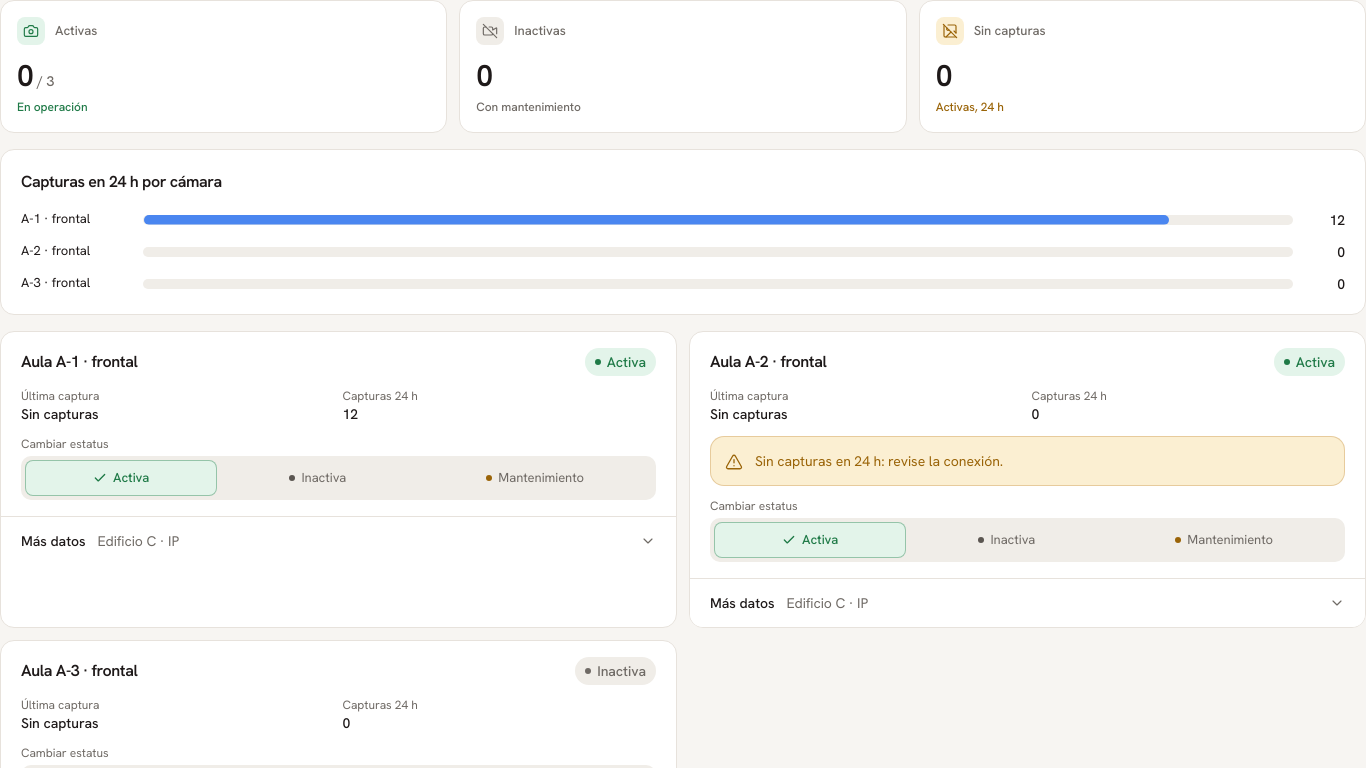
Test: CamarasEstado › elegir el estatus que ya tiene no abre nada y cancelar no cambia nada
Click the radio button labelled "Activa" below "Aula A-1 · frontal" at (121, 478), box top-left (25, 460), bottom-right (217, 496)
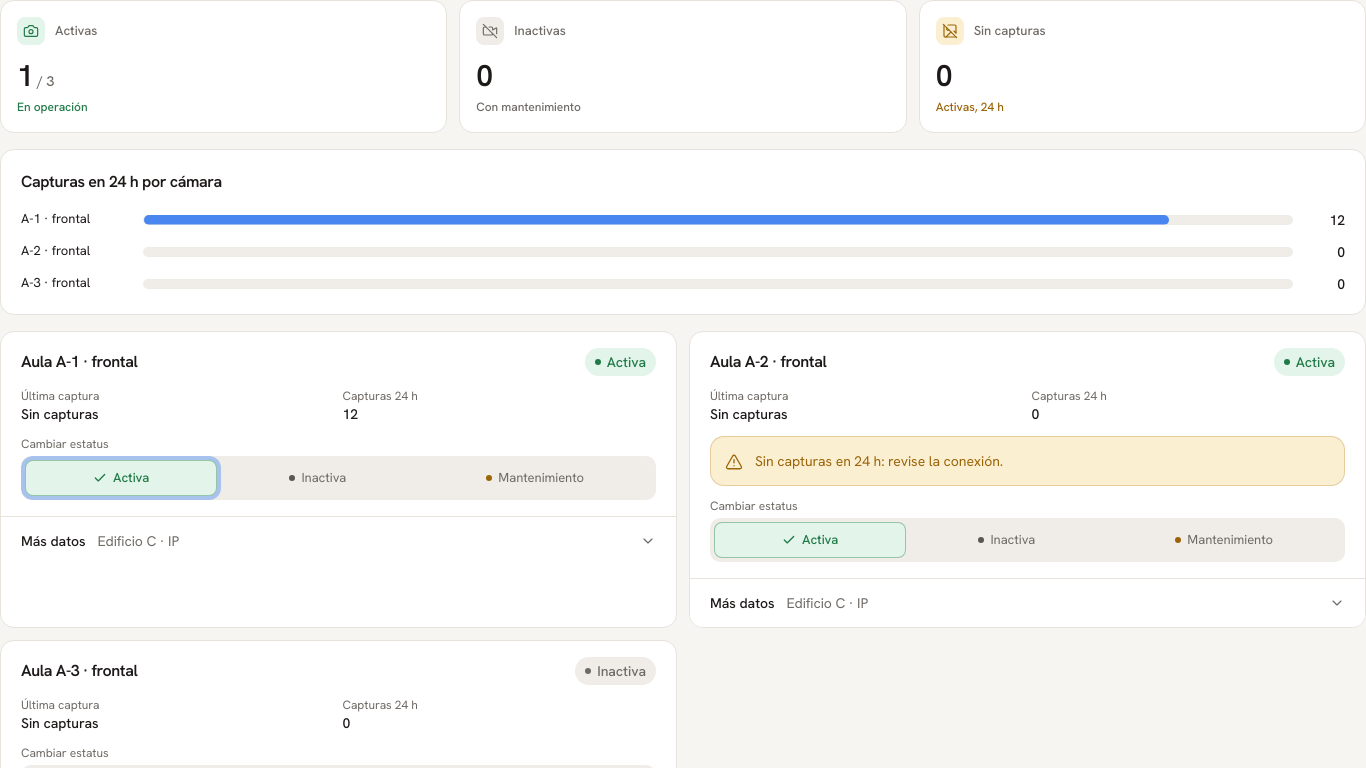
Click the radio button labelled "Inactiva" below "Aula A-1 · frontal" at (318, 478), box top-left (221, 460), bottom-right (414, 496)
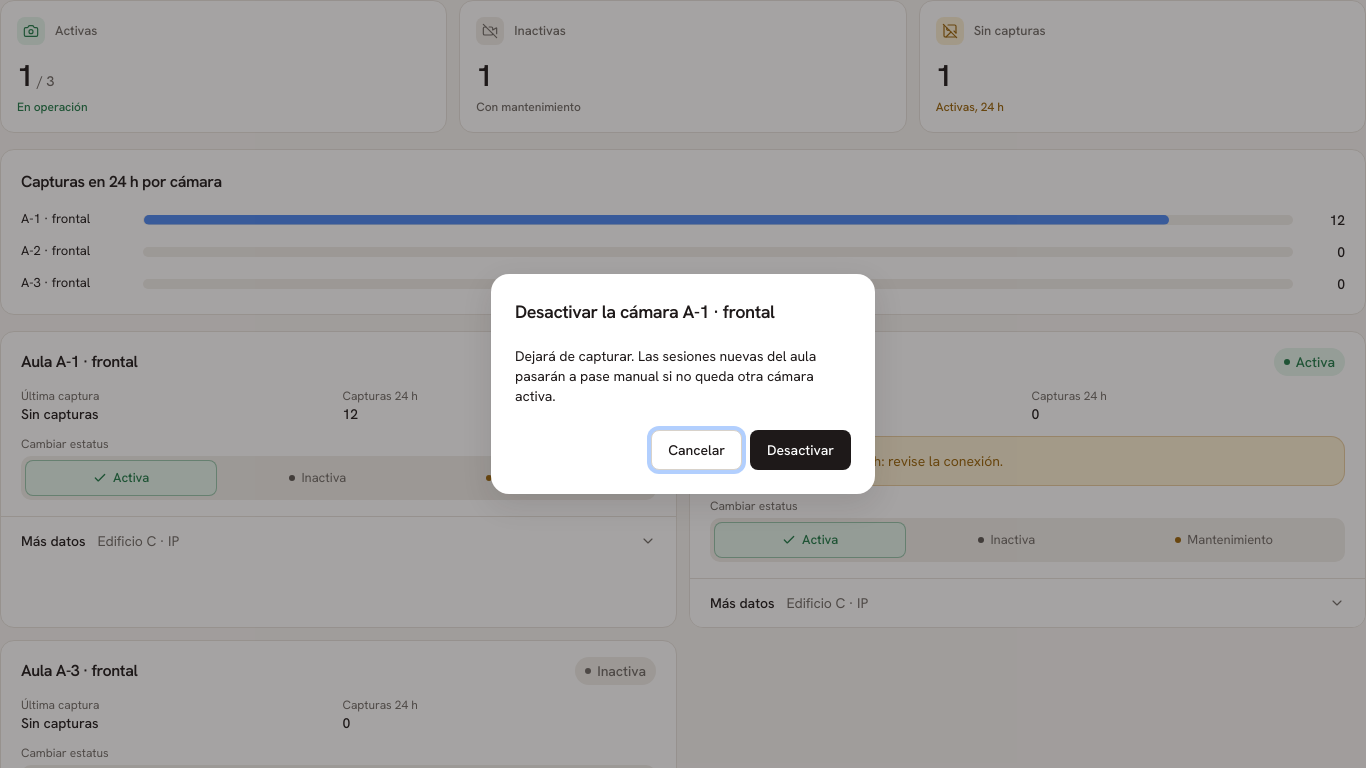
Result: the dialog "Desactivar la cámara A-1 · frontal" is shown at top-left (491, 274), bottom-right (875, 494)
Click the button "Cancelar" at (697, 450), box top-left (651, 430), bottom-right (742, 470)
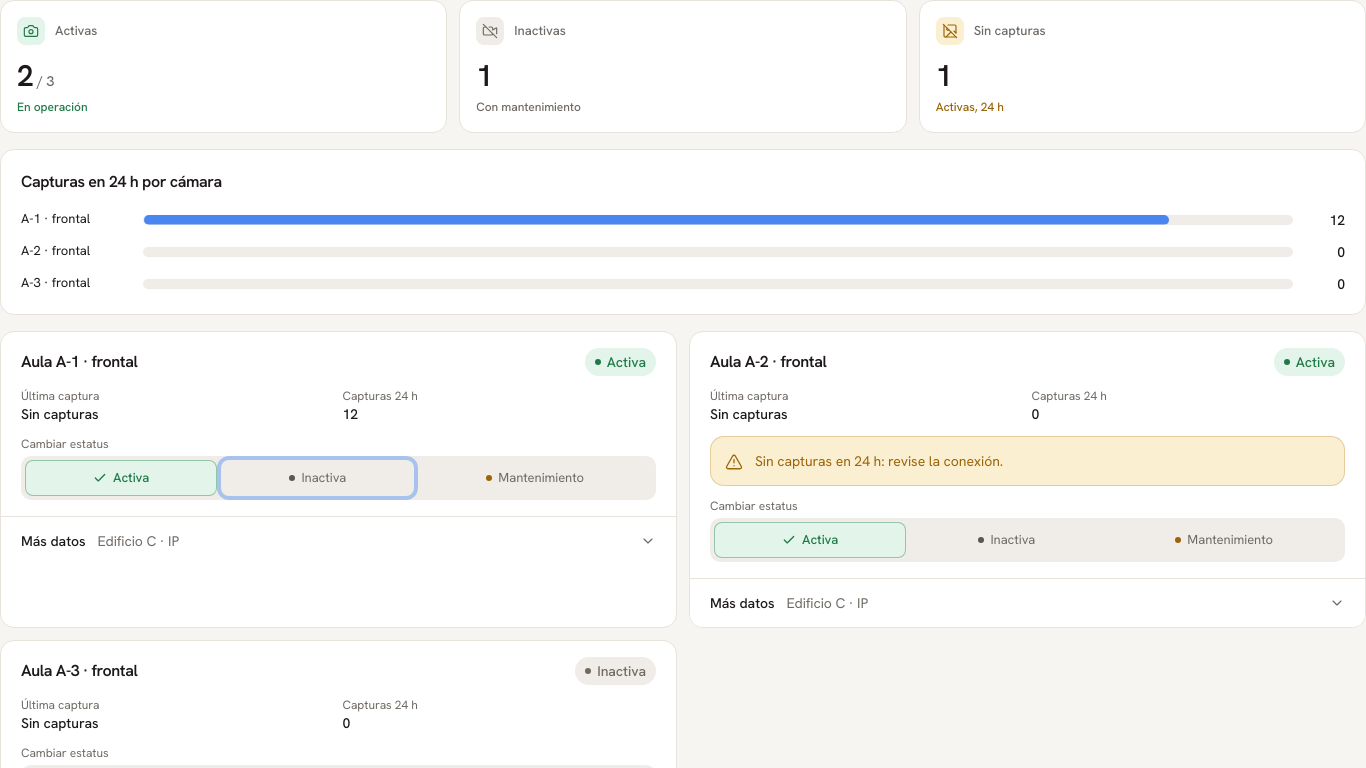
Result: the dialog is gone
